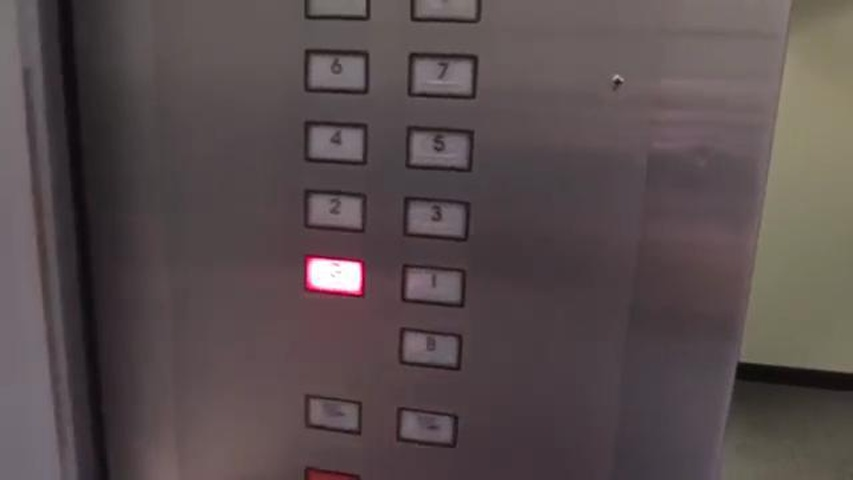1: (400, 262, 467, 308)
2: (302, 188, 366, 232)
3: (403, 196, 470, 242)
4: (304, 120, 368, 165)
5: (406, 125, 476, 173)
6: (305, 48, 368, 96)
7: (408, 51, 478, 99)
B: (400, 325, 464, 371)
blur: (303, 254, 368, 298), (396, 406, 459, 449), (304, 393, 363, 436)
